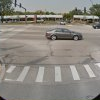crosswalk: (3, 63, 99, 80)
